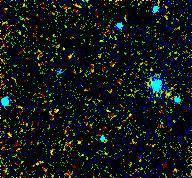star: (153, 78, 183, 108)
